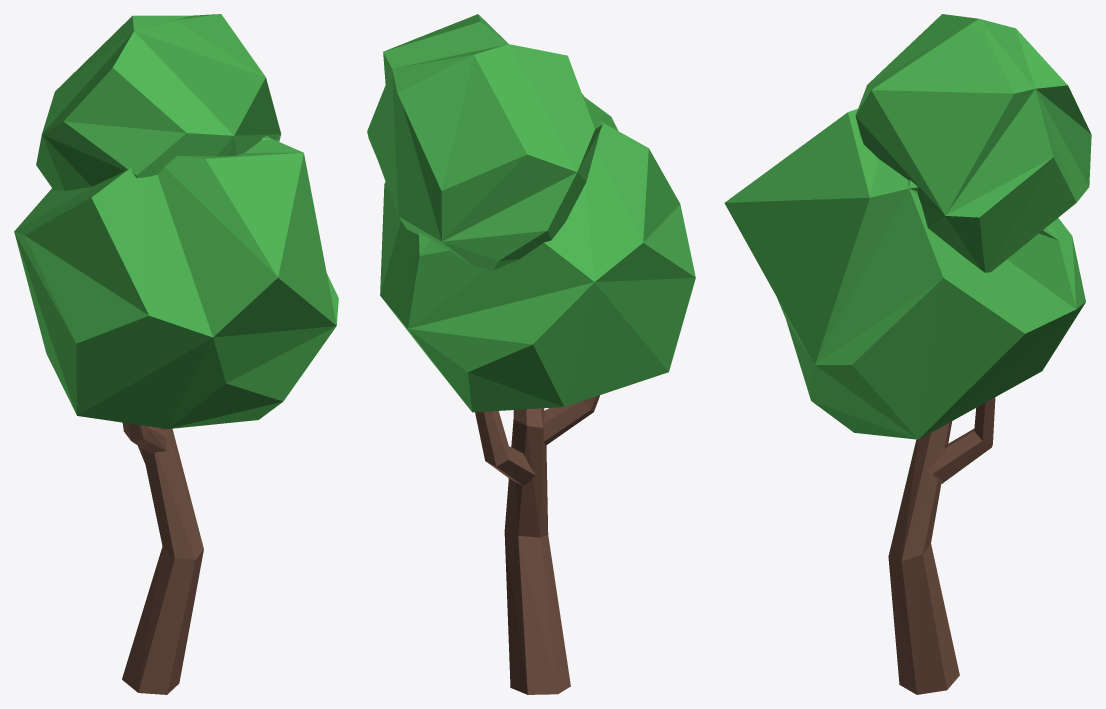
Rendered from Woods Tree F.glb.
3 renders of one model, left to right at view 1: azimuth 30°, elevation 25°; view 2: azimuth 150°, elevation 25°; view 3: azimuth 270°, elevation 25°, orthographic. The views are drawn at different scales.
Parts seen in each view (by area): view 1: mesh506122935, mesh506122935_1; view 2: mesh506122935, mesh506122935_1; view 3: mesh506122935, mesh506122935_1.
Boxes of the visible parts, left/top/right/bottom form: mesh506122935: left=14, top=14, right=338, bottom=428; mesh506122935_1: left=122, top=422, right=203, bottom=694; mesh506122935: left=367, top=14, right=695, bottom=412; mesh506122935_1: left=475, top=395, right=599, bottom=694; mesh506122935: left=724, top=14, right=1091, bottom=439; mesh506122935_1: left=888, top=397, right=995, bottom=694.
Size of the model in its own units: 1.58 by 3.69 by 1.82.
